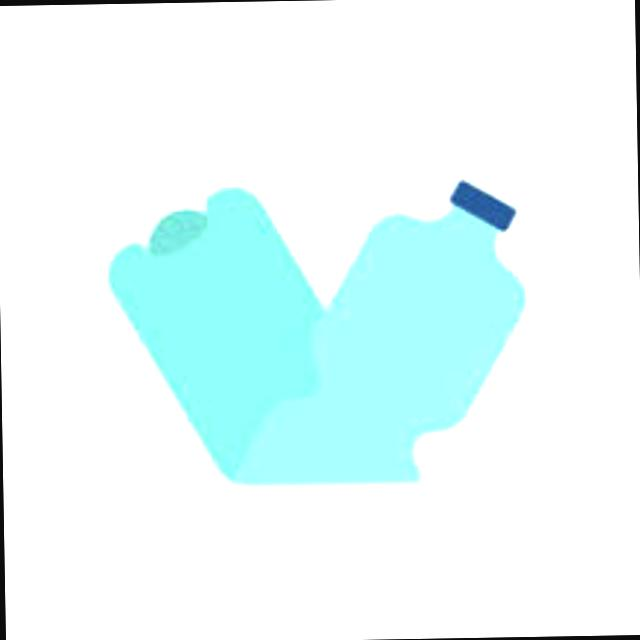Plastic: (70, 101, 564, 526)
